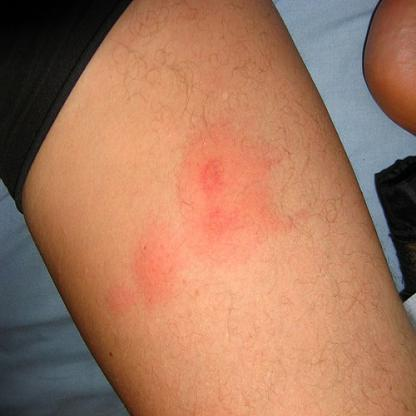Wasp: (179, 125, 310, 241), (101, 224, 176, 320)
